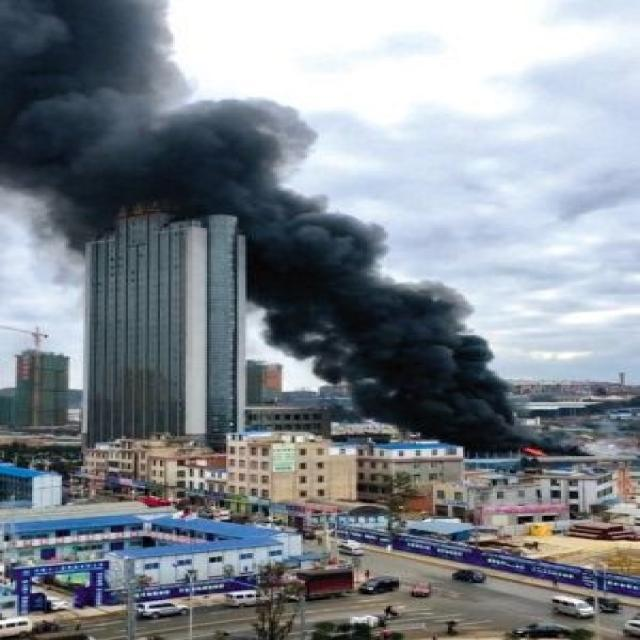Fire: (520, 446, 548, 458)
Smoke: (2, 1, 589, 456)
